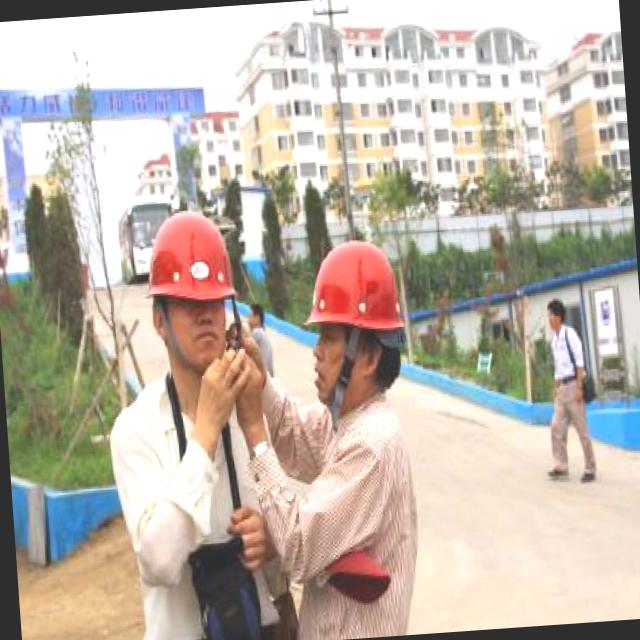helmet: (292, 230, 412, 351), (134, 206, 244, 314)
no-helmet: (539, 294, 569, 325)
no-vest: (101, 371, 278, 640), (295, 391, 426, 640), (548, 328, 592, 394)
